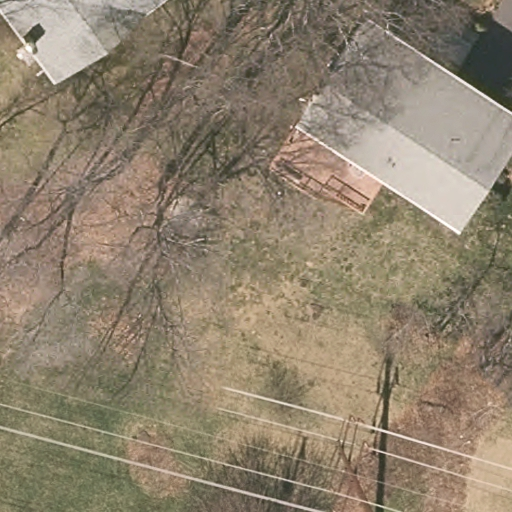DT: (319, 418, 386, 512)
